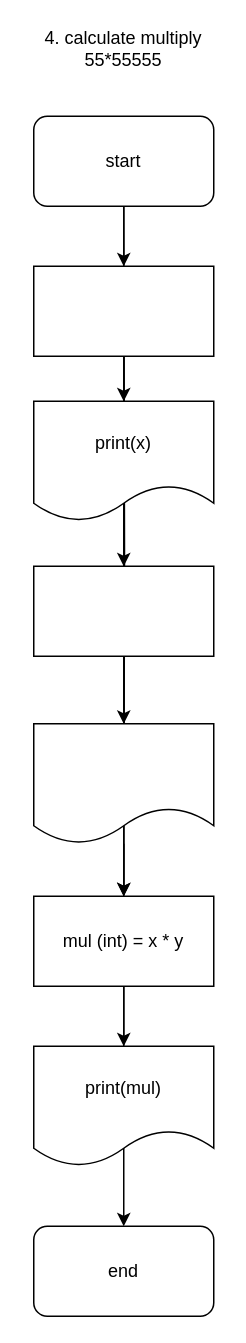
Image size: 246x1343. Some labels were removed from this diagram. The shapes that lost their labels are listed below. From the top down, each one's centre as x and y in pixels, then its label:
point 123,310: x (int) = 55
point 123,610: y (int) = 55555
point 123,783: print(y)
